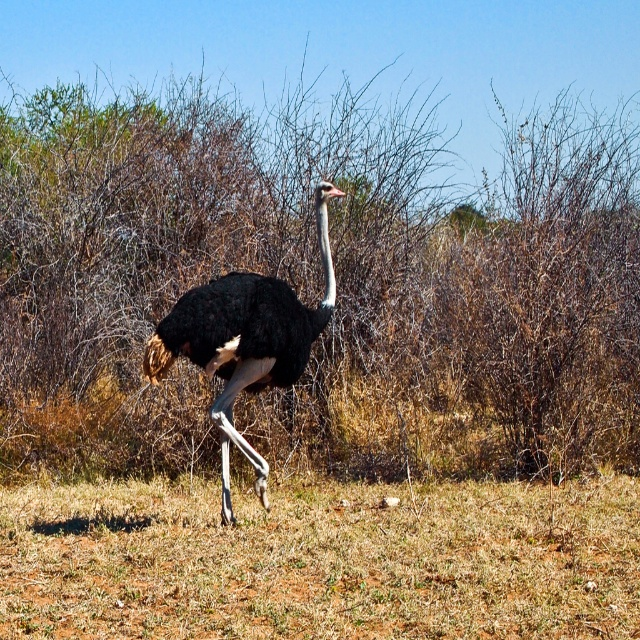Ostrich: (134, 154, 352, 522)
